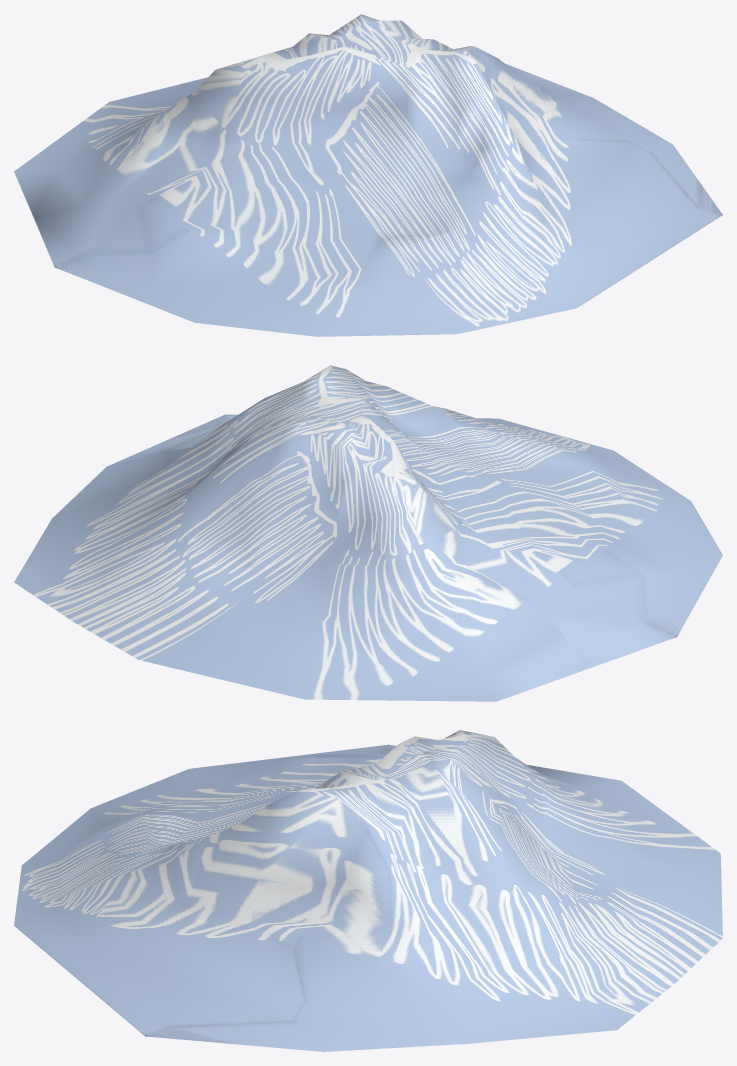
Rendered from mountainR_1953.glb.
3 renders of one model, top to bottom at view 1: azimuth 30°, elevation 25°; view 2: azimuth 150°, elevation 25°; view 3: azimuth 270°, elevation 25°, orthographic. The views are drawn at different scales.
Parts seen in each view (by area): view 1: mountainR_1953; view 2: mountainR_1953; view 3: mountainR_1953.
Part boxes in pixels (x1=…): mountainR_1953: x1=14, y1=14, x2=722, y2=336; mountainR_1953: x1=14, y1=365, x2=722, y2=701; mountainR_1953: x1=14, y1=730, x2=722, y2=1051.
Bounding box in the file's own units: 116 × 28.59 × 113.
Materials: 1 (1 with a texture image).
